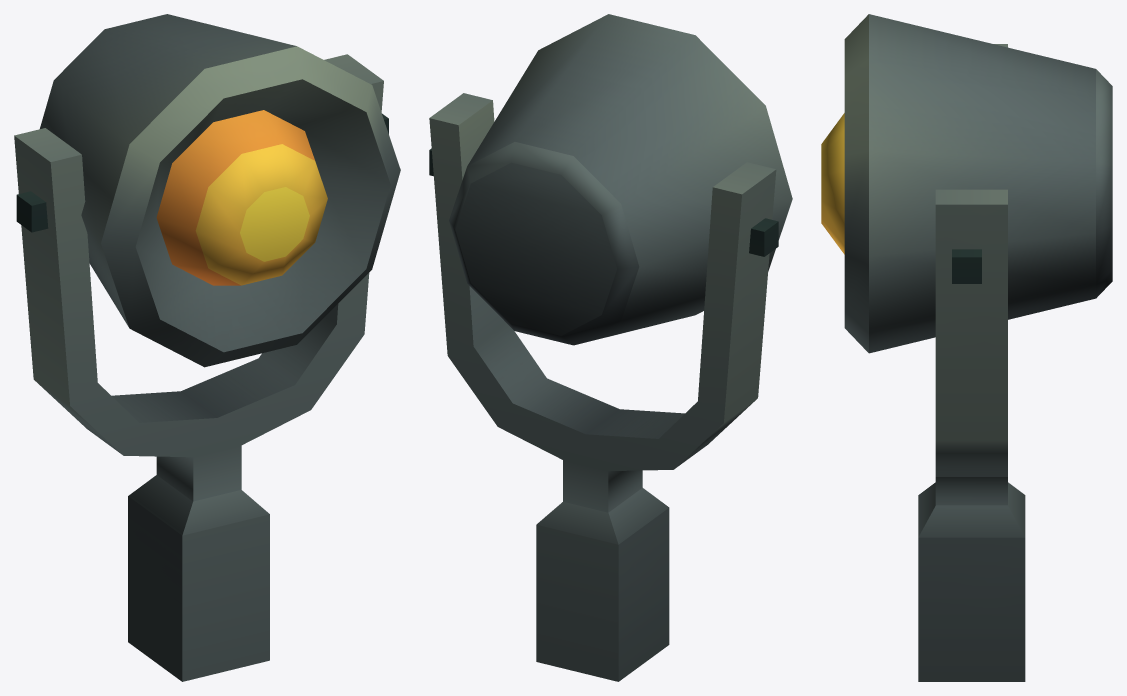
File: spotlight.fbx
The picture shows the model from 3 angles, left to right: view 1: azimuth 30°, elevation 25°; view 2: azimuth 150°, elevation 25°; view 3: azimuth 270°, elevation 25°; orthographic projection. The views are drawn at different scales.
Parts seen in each view (by area): view 1: spotlight_lamp, spotlight; view 2: spotlight_lamp, spotlight; view 3: spotlight_lamp, spotlight.
Part boxes in pixels (x1,y1,x2,y2): spotlight_lamp: (16, 14, 400, 367); spotlight: (14, 54, 383, 681); spotlight_lamp: (429, 14, 792, 345); spotlight: (429, 93, 776, 681); spotlight_lamp: (821, 14, 1112, 353); spotlight: (918, 44, 1025, 681).
Size of the model in its own units: 155 by 262 by 111.
